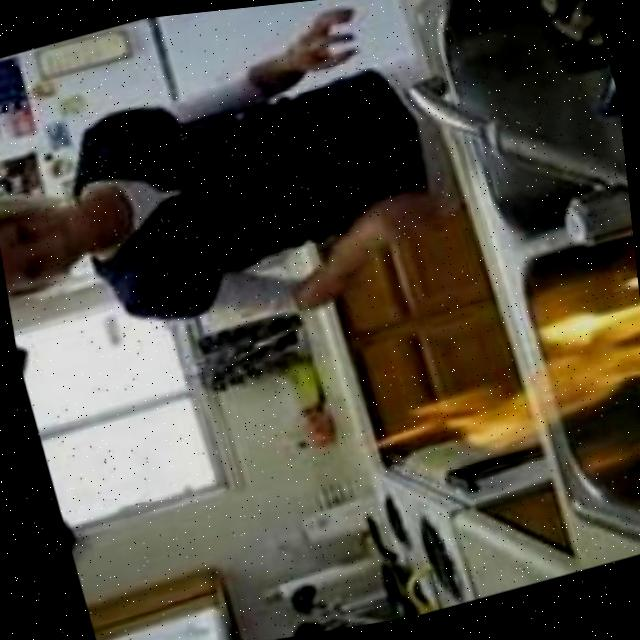fire: (354, 269, 640, 490)
